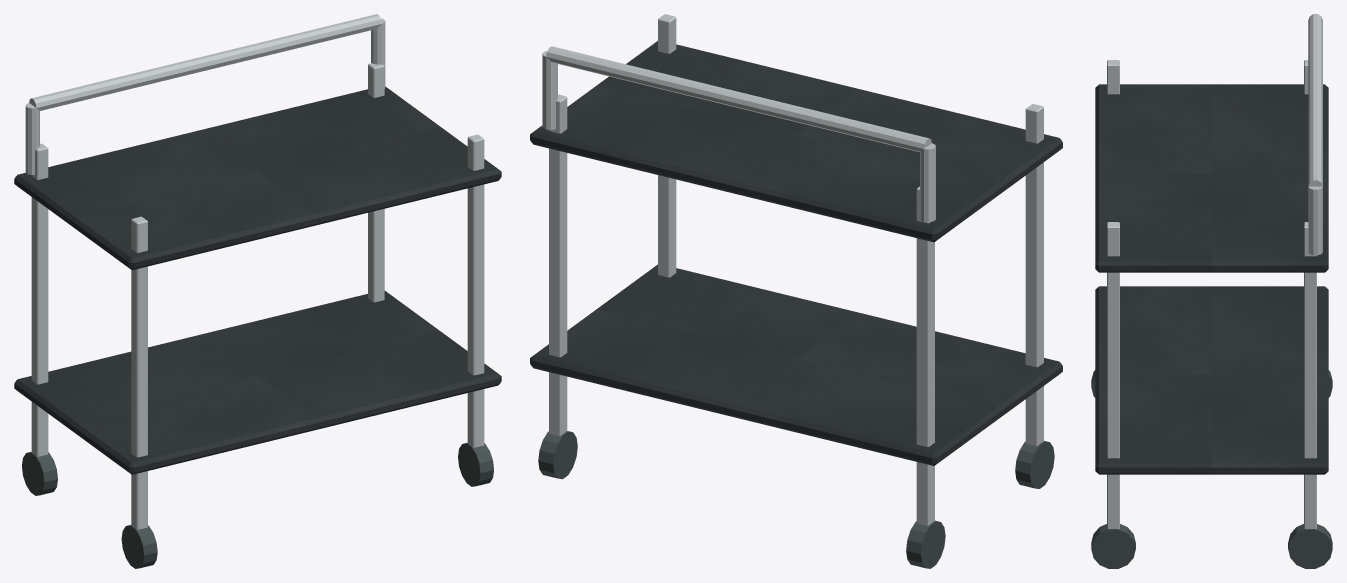
Rendered from UtilityCart.glb.
3 renders of one model, left to right at view 1: azimuth 30°, elevation 25°; view 2: azimuth 150°, elevation 25°; view 3: azimuth 270°, elevation 25°, orthographic. The views are drawn at different scales.
Visible parts, largest first — view 1: UtilityCart__Powdercoat__mesh, UtilityCart__BrushedHardware__mesh, UtilityCart__Rubber__mesh; view 2: UtilityCart__Powdercoat__mesh, UtilityCart__BrushedHardware__mesh, UtilityCart__Rubber__mesh; view 3: UtilityCart__Powdercoat__mesh, UtilityCart__BrushedHardware__mesh, UtilityCart__Rubber__mesh.
Part boxes in pixels (x1,y1,x2,y2): UtilityCart__Powdercoat__mesh: (14,86,501,474); UtilityCart__BrushedHardware__mesh: (25,14,484,529); UtilityCart__Rubber__mesh: (22,442,493,568); UtilityCart__Powdercoat__mesh: (530,41,1062,465); UtilityCart__BrushedHardware__mesh: (542,14,1043,525); UtilityCart__Rubber__mesh: (538,431,1054,568); UtilityCart__Powdercoat__mesh: (1095,84,1328,474); UtilityCart__BrushedHardware__mesh: (1107,14,1322,529); UtilityCart__Rubber__mesh: (1091,370,1332,568).
Size of the model in its own units: 0.82 by 0.8252 by 0.466.
Materials: 3 (1 with a texture image).
